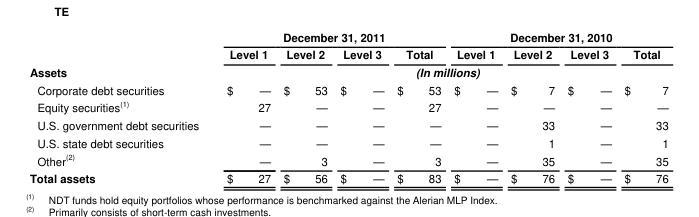table: (28, 28, 667, 185)
table column: (28, 28, 212, 185), (212, 28, 276, 185), (276, 28, 333, 185), (333, 28, 390, 185), (446, 28, 503, 185), (503, 28, 560, 185), (560, 28, 617, 185), (390, 28, 446, 185), (617, 28, 667, 185)
table column header: (28, 28, 667, 62)
table row: (28, 62, 667, 80), (28, 97, 667, 115), (28, 115, 667, 133), (28, 150, 667, 168), (28, 28, 667, 45), (28, 45, 667, 62), (28, 80, 667, 97), (28, 133, 667, 150), (28, 168, 667, 185)
table spanning cell: (212, 62, 667, 80), (212, 28, 446, 45), (446, 28, 667, 45)
